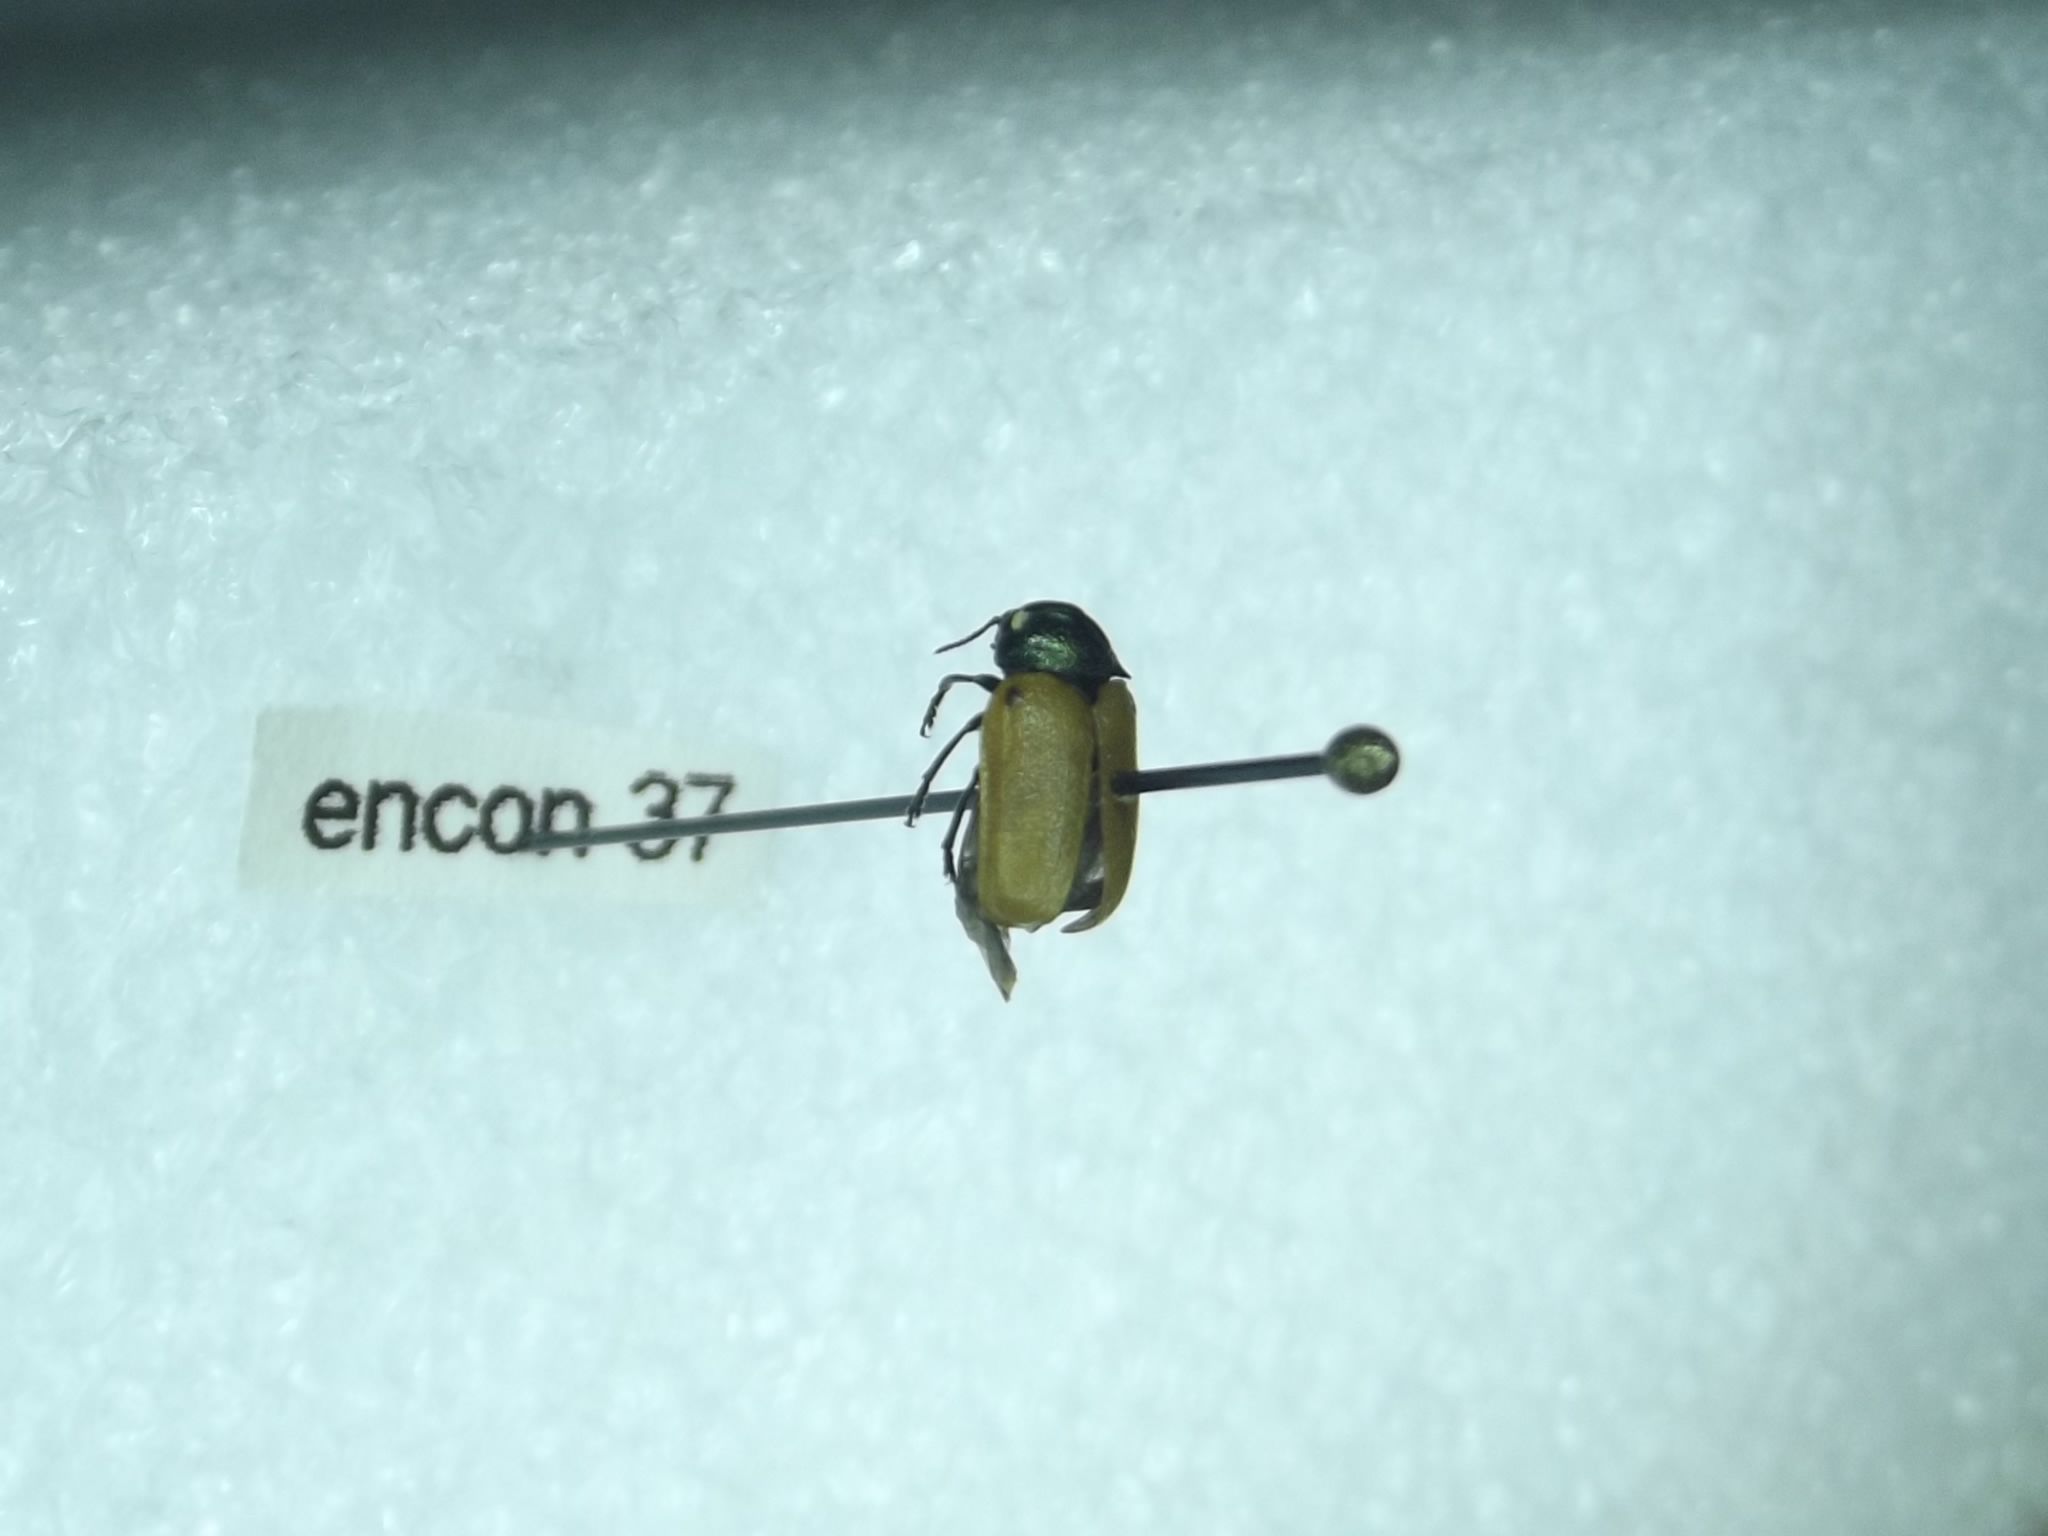Labidostomis_longimana: (910, 587, 1153, 994)
